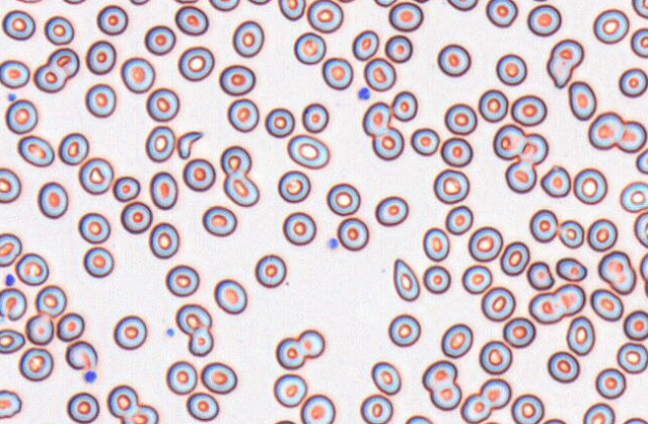PLT: (325, 237, 341, 252), (358, 86, 372, 101), (4, 272, 16, 288), (83, 370, 97, 383), (166, 326, 176, 337), (6, 91, 16, 102)
RBC: (421, 359, 461, 410), (597, 250, 636, 295), (286, 133, 329, 169), (587, 111, 624, 149), (592, 8, 629, 44), (177, 45, 214, 81), (78, 157, 113, 195), (433, 168, 469, 204), (120, 56, 155, 93), (223, 171, 259, 206), (467, 226, 502, 262), (492, 123, 526, 160), (573, 167, 607, 204), (565, 315, 595, 356), (480, 286, 515, 321), (18, 346, 53, 381), (478, 339, 512, 375), (213, 278, 247, 314), (113, 314, 147, 350), (200, 361, 237, 394), (17, 134, 54, 167), (306, 0, 343, 33), (392, 258, 420, 301), (436, 43, 471, 77), (145, 87, 179, 122), (528, 291, 564, 324), (440, 322, 473, 358), (5, 98, 38, 134), (175, 303, 212, 335), (510, 94, 547, 126), (218, 64, 255, 96), (232, 20, 264, 57), (567, 80, 596, 120), (273, 373, 307, 407), (282, 211, 316, 245), (326, 182, 360, 216), (14, 252, 49, 285), (526, 3, 561, 36), (148, 221, 179, 258), (37, 181, 68, 218), (371, 126, 404, 160), (182, 157, 215, 191), (363, 57, 396, 91), (387, 313, 420, 347), (165, 264, 199, 297), (277, 169, 310, 203), (336, 217, 369, 251), (165, 360, 197, 395), (254, 253, 286, 288), (145, 125, 175, 162), (149, 171, 178, 209), (547, 350, 580, 383), (590, 288, 623, 321), (293, 31, 326, 64), (444, 102, 477, 135), (504, 159, 536, 193), (106, 384, 138, 418), (321, 56, 353, 90), (84, 83, 116, 117), (227, 98, 259, 132), (120, 200, 152, 234), (202, 205, 237, 236), (388, 1, 423, 32), (299, 393, 335, 423), (499, 240, 529, 276), (66, 391, 99, 423), (502, 316, 535, 348), (34, 284, 66, 317), (370, 361, 401, 395), (1, 9, 35, 40), (85, 40, 116, 74), (374, 195, 408, 226), (361, 101, 391, 136), (495, 53, 527, 85), (82, 246, 114, 278), (616, 341, 647, 374), (58, 132, 89, 165), (510, 393, 544, 423), (185, 391, 219, 421), (359, 393, 393, 423), (478, 88, 508, 122), (174, 5, 208, 35), (529, 208, 558, 243), (554, 283, 585, 315), (479, 378, 511, 409), (65, 340, 97, 371), (47, 47, 79, 78), (595, 367, 626, 399), (440, 136, 472, 167), (96, 4, 128, 35), (78, 212, 110, 243), (616, 120, 646, 153), (33, 63, 66, 93), (587, 218, 617, 251), (144, 24, 175, 55), (275, 337, 305, 369), (460, 393, 492, 423), (220, 145, 251, 175), (461, 264, 492, 294), (43, 15, 74, 45), (25, 313, 54, 345), (619, 180, 647, 213), (0, 287, 27, 321), (422, 227, 449, 261), (0, 59, 30, 89), (264, 107, 294, 137), (520, 132, 548, 164), (55, 312, 84, 342), (618, 67, 647, 97), (445, 204, 473, 235), (485, 0, 517, 27), (410, 127, 439, 156), (422, 264, 450, 294), (390, 90, 417, 121), (301, 102, 328, 133), (352, 29, 379, 60), (384, 34, 412, 63), (297, 329, 324, 358), (0, 232, 22, 267), (623, 309, 647, 341), (0, 167, 21, 203), (112, 175, 140, 202), (558, 219, 584, 248), (121, 403, 158, 423), (582, 402, 615, 423), (0, 328, 25, 354), (0, 389, 22, 418), (278, 0, 305, 20), (630, 27, 647, 58), (633, 211, 647, 247), (446, 0, 478, 11), (208, 0, 239, 11), (635, 147, 647, 174), (632, 0, 648, 18), (404, 414, 433, 423), (639, 252, 647, 282), (621, 416, 647, 423), (373, 0, 396, 7), (541, 417, 566, 423), (62, 0, 86, 5), (247, 0, 271, 5), (129, 0, 150, 5), (173, 0, 199, 4), (272, 419, 296, 423), (480, 420, 501, 424), (15, 0, 43, 3), (337, 0, 357, 3), (412, 0, 432, 3), (530, 0, 550, 2)
Schistocyte: (547, 39, 584, 91), (540, 166, 572, 199), (525, 261, 555, 290), (178, 130, 204, 161), (557, 257, 589, 282)
